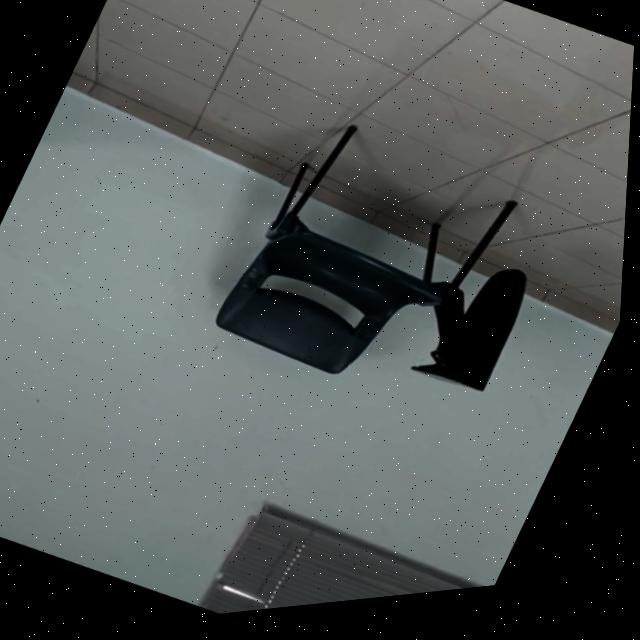sandalye: (220, 134, 520, 382)
